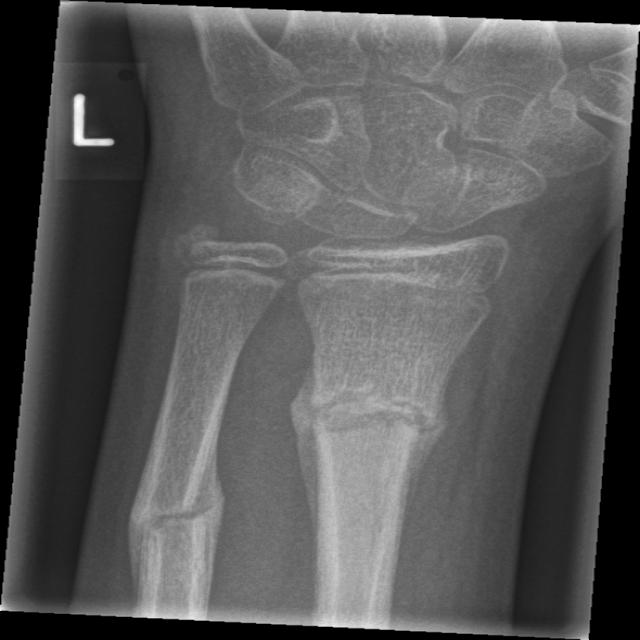ulna fracture: (291, 324, 487, 550), (115, 412, 246, 614)
